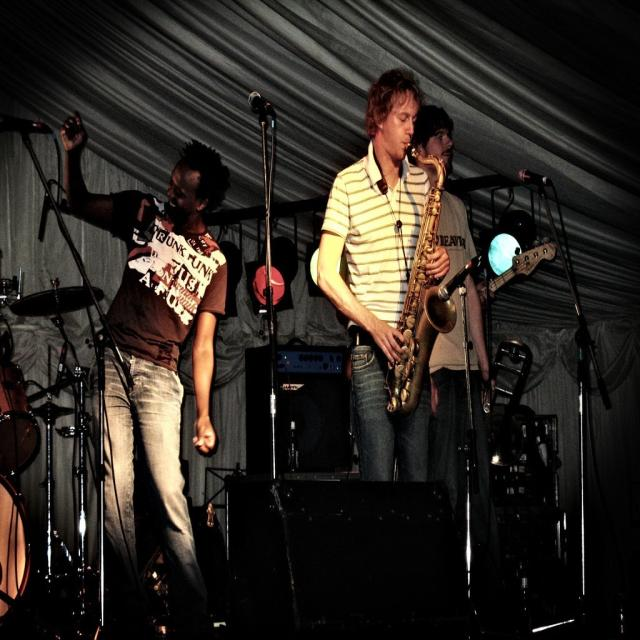drums: (0, 273, 111, 640)
saxophone: (381, 143, 458, 411)
